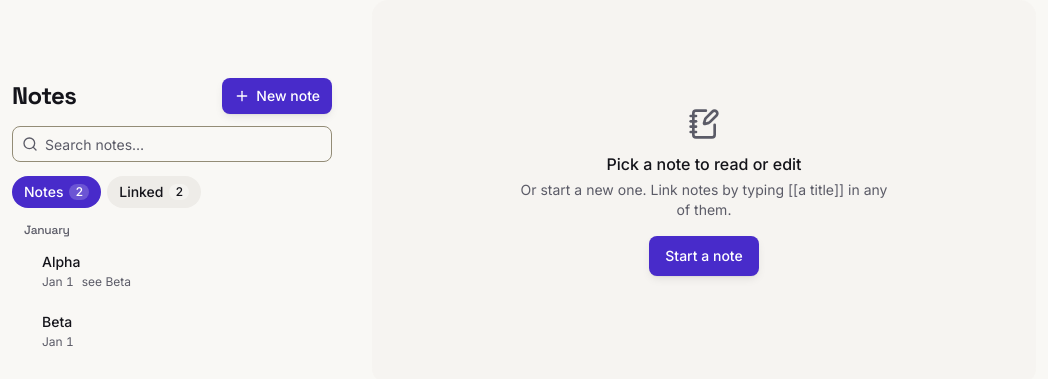
NotesPage — links › shows what links to a note, and what it links to
What coordinates should you click on to do the following:
click the button with aria-label "Open Beta"
I would click on:
 (57, 322)
Its box is x1=12 y1=302 x2=332 y2=360.
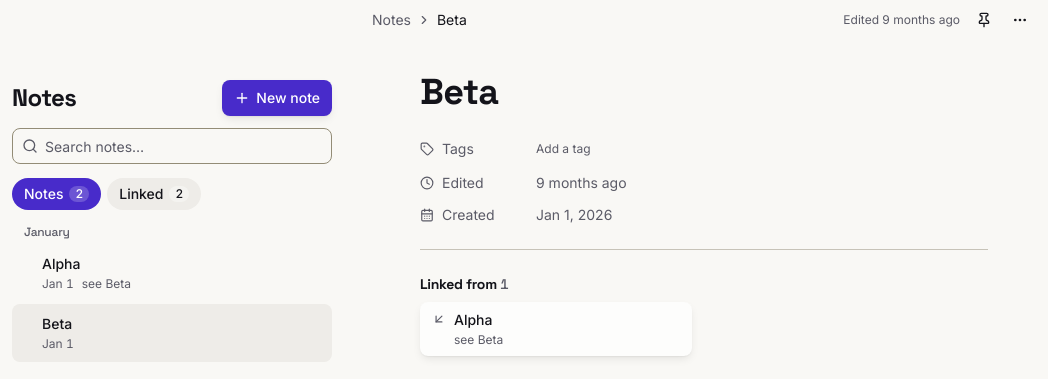
expect the heading "Linked from 1" is shown: met, box x1=420 y1=275 x2=508 y2=293
What coordinates should you click on to do the following:
click the button with aria-label "Open Alpha"
I would click on:
 (61, 264)
Its box is x1=12 y1=244 x2=332 y2=302.
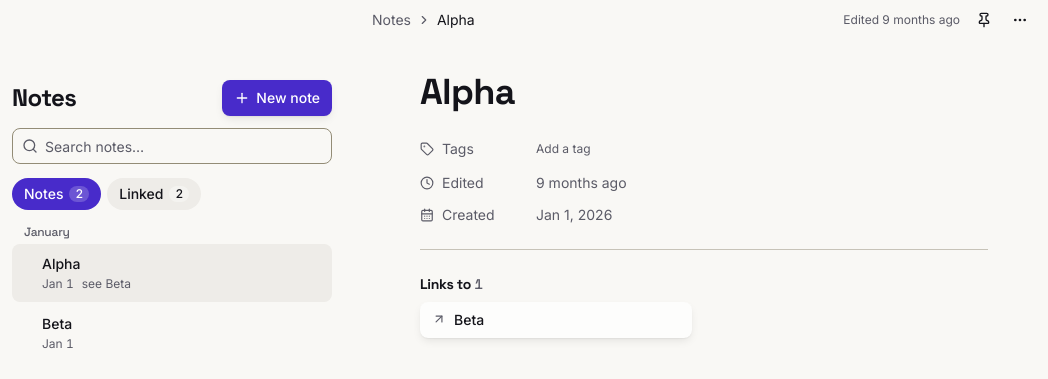
expect the heading "Links to 1" is shown: met, box x1=420 y1=275 x2=483 y2=293
